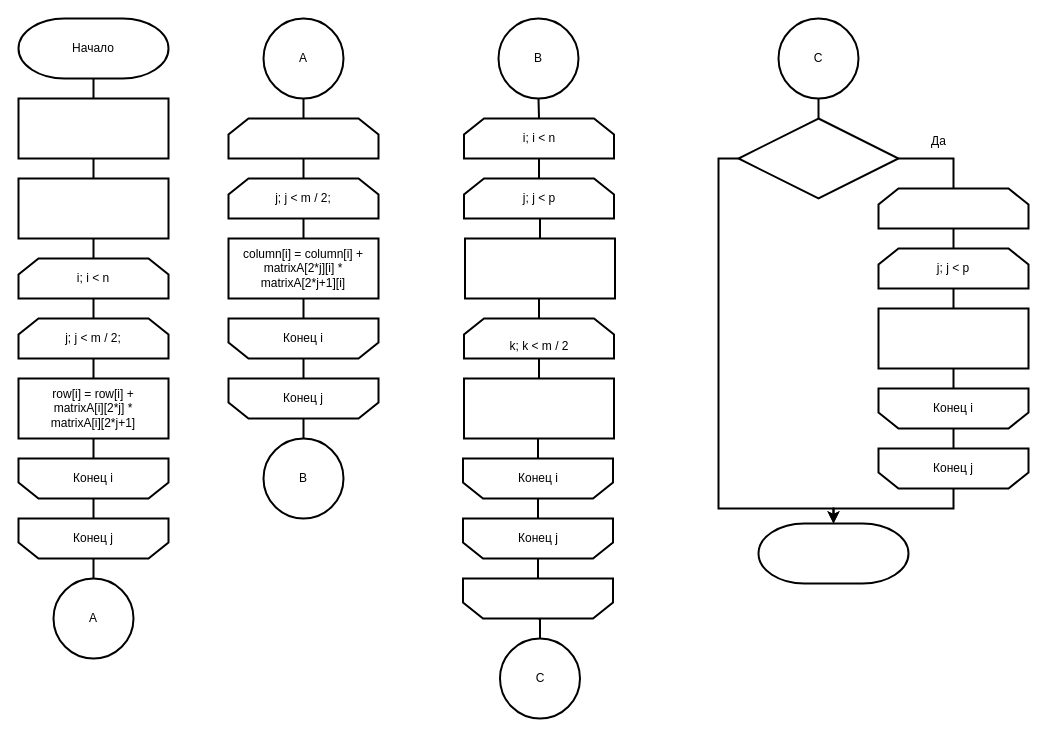
The diagram is 1046 pixels wide and 736 high, and some of its shapes have lost their labels. The shapes that lost their labels are listed below. From the top down, each one's box as (x1, y1, x2, y2) in pixels, then its label:
(17, 97, 169, 159): Создать матрицу
(227, 117, 379, 159): i; i < c
(737, 117, 899, 199): b % 2 == 1
(17, 177, 169, 239): Создать массивы row и column
(877, 187, 1029, 229): i; i < n;
(464, 237, 616, 299): matrixC[i][j] = -row[I] - column[j]
(877, 307, 1029, 369): matrixC[i][j] = matrixC[i][j] + matrixA[i][b-1] * matrixB[b-1][j]
(462, 377, 614, 439): matrixC[i][j] = matrixC[i][j] + matrixA[i][k] * matrixB[k][j]
(757, 522, 909, 584): Конец
(462, 577, 614, 619): Конец k
